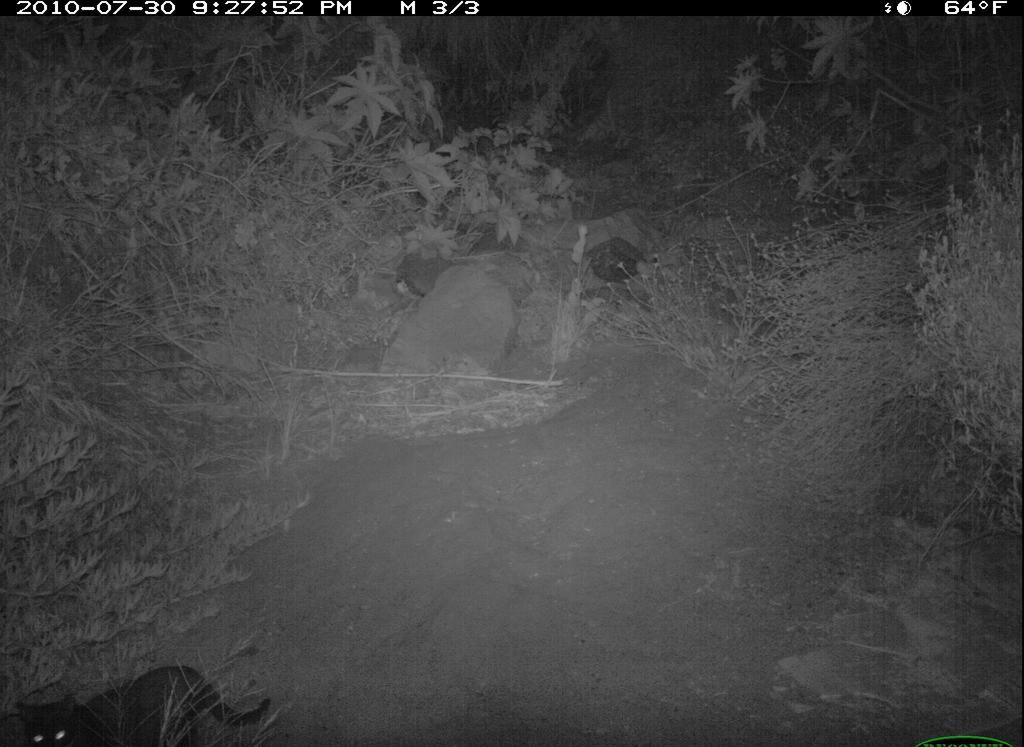cat: (9, 661, 283, 745)
